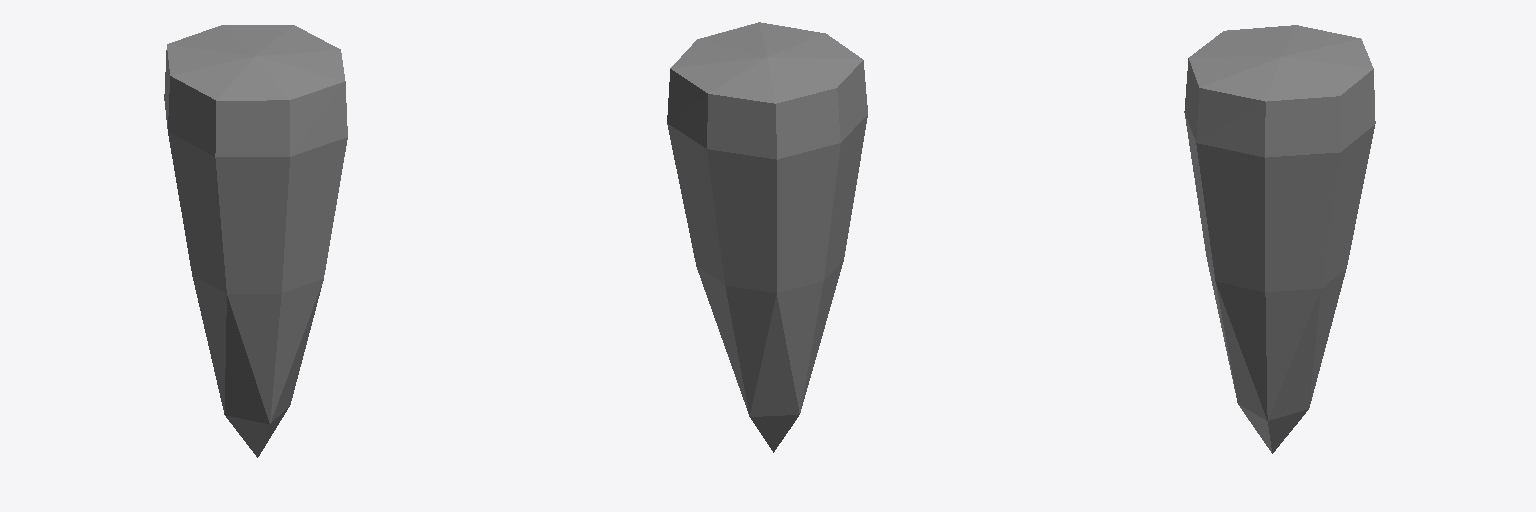
The model's file is step_stone_05_lava.obj.
3 renders of one model, left to right at view 1: azimuth 30°, elevation 25°; view 2: azimuth 150°, elevation 25°; view 3: azimuth 270°, elevation 25°, orthographic.
Parts seen in each view (by area): view 1: step_stone_05_lava; view 2: step_stone_05_lava; view 3: step_stone_05_lava.
Boxes of the visible parts, x1,y1,x2,y2 form: step_stone_05_lava: [164, 25, 347, 457]; step_stone_05_lava: [667, 22, 867, 452]; step_stone_05_lava: [1184, 25, 1375, 453].
Bounding box in the file's own units: 140 × 332 × 144.